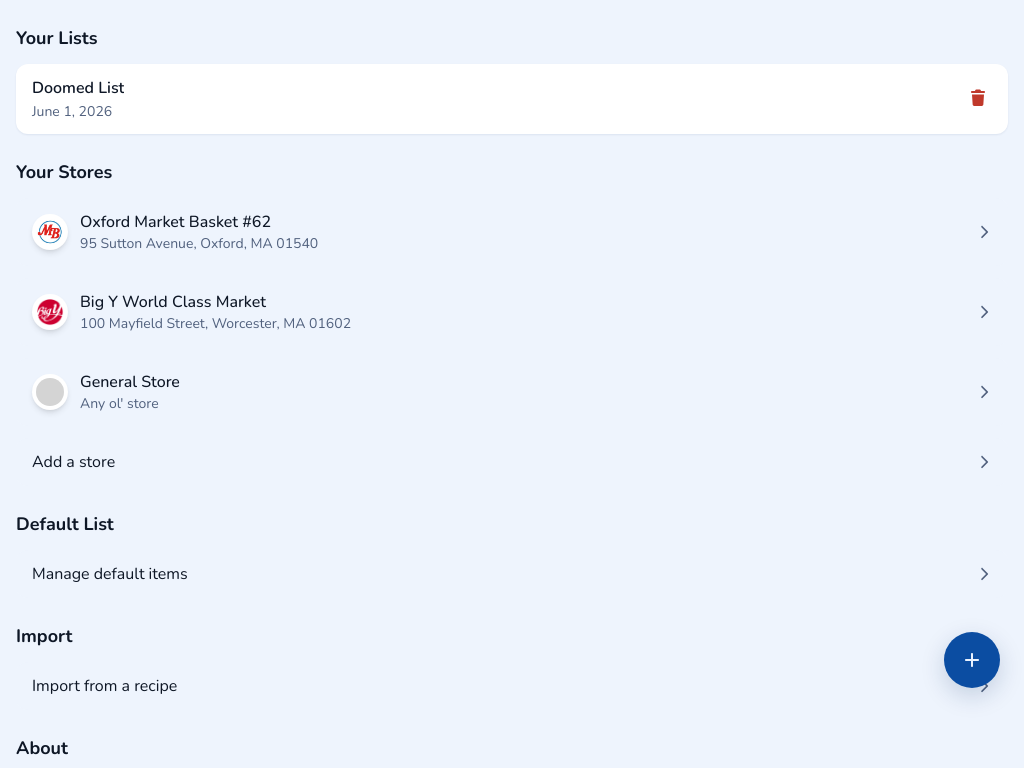
Test: SettingsRoute › clicking a card delete affordance opens the confirm dialog without deleting
The image size is (1024, 768).
Expected: the text "Doomed List" is shown, [32,76,124,100]
Step 1. Click the button named "Delete list: Doomed List" → (978, 99), box [964,83,992,115]
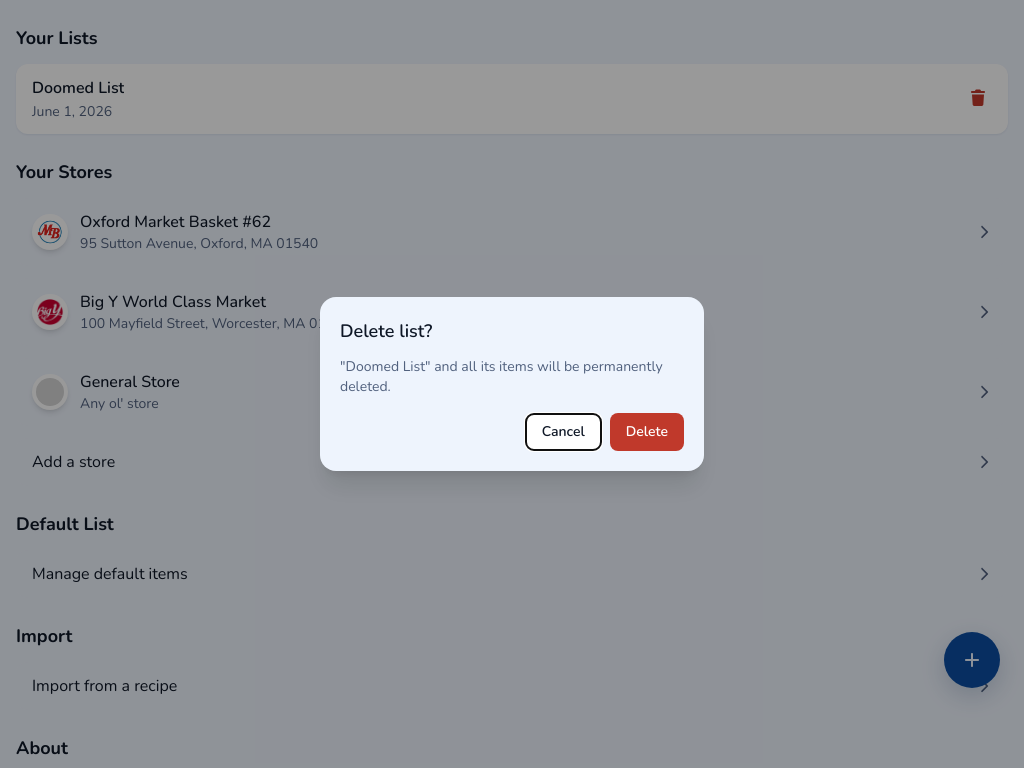
Now the dialog "Delete list?" is shown, box [320,297,704,471]
